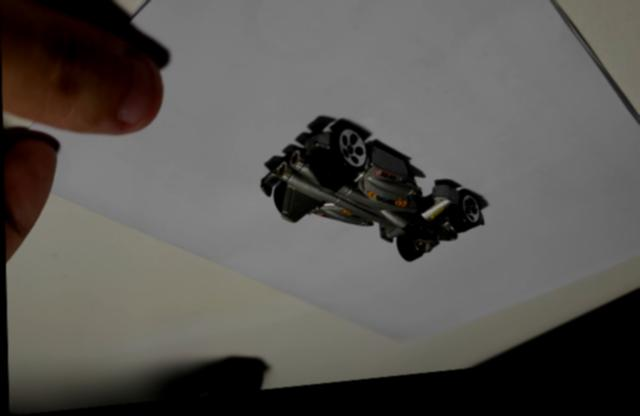05_DC121: (259, 121, 489, 270)
